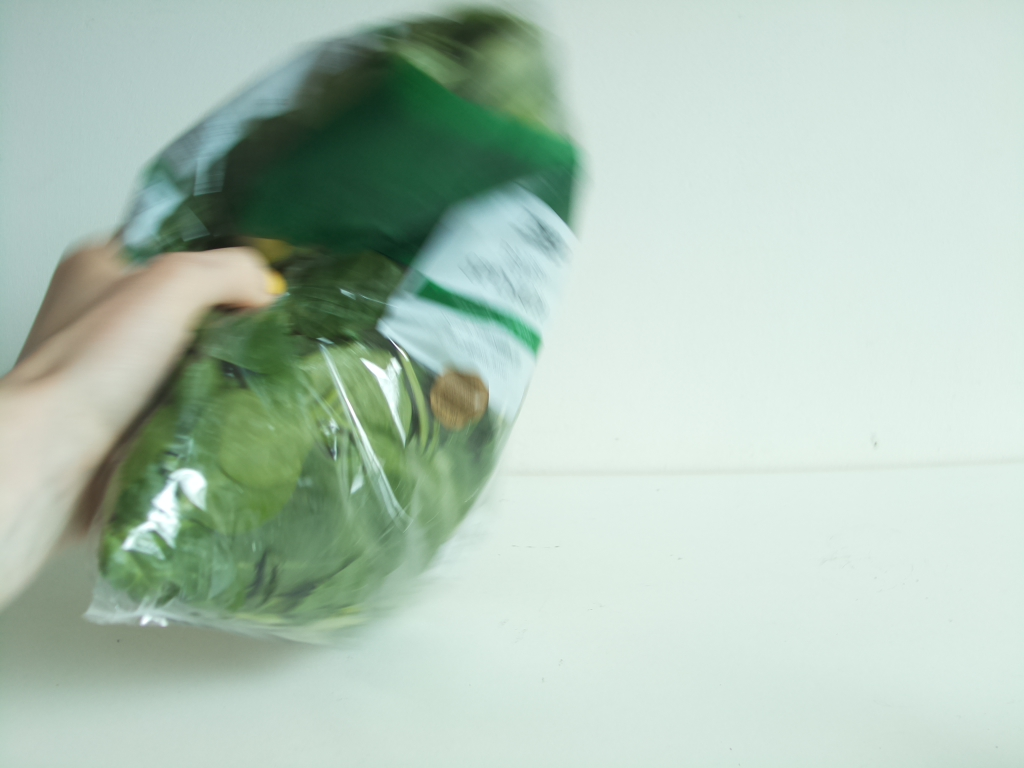salad: (84, 8, 580, 649)
